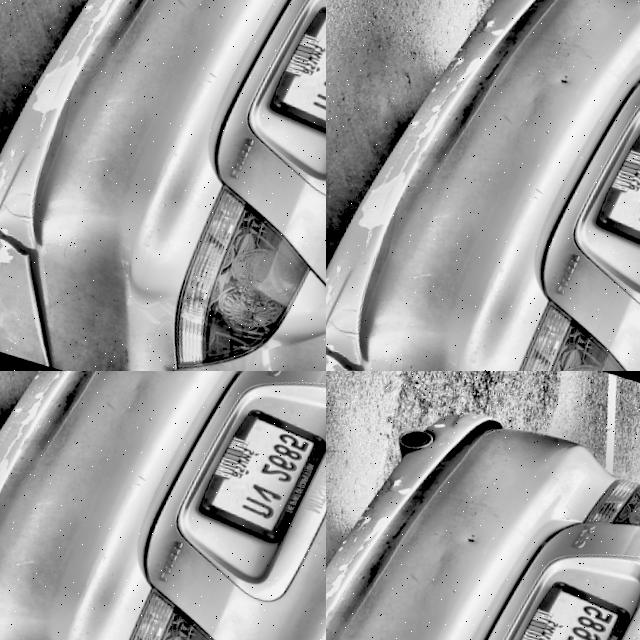license-plate: (117, 371, 238, 468), (499, 558, 640, 640)
